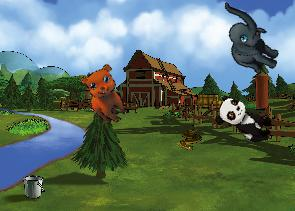bear: (73, 59, 141, 129)
elephant: (206, 1, 291, 78)
panda: (211, 92, 278, 147)
